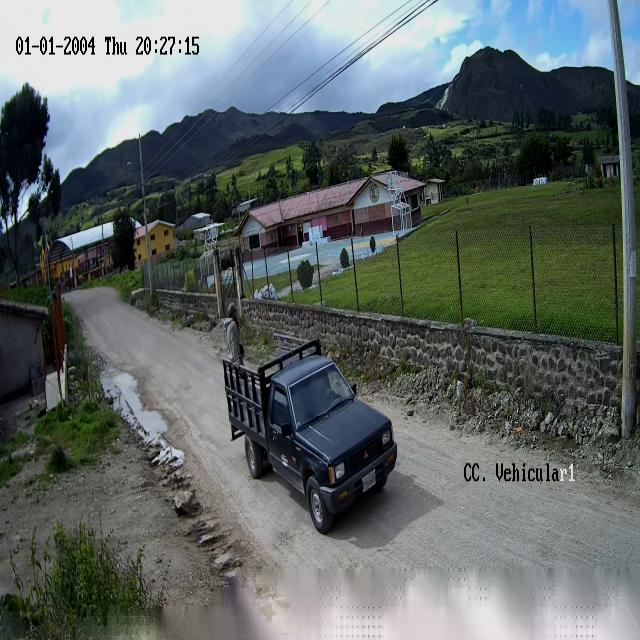CMT: (223, 351, 398, 535)
